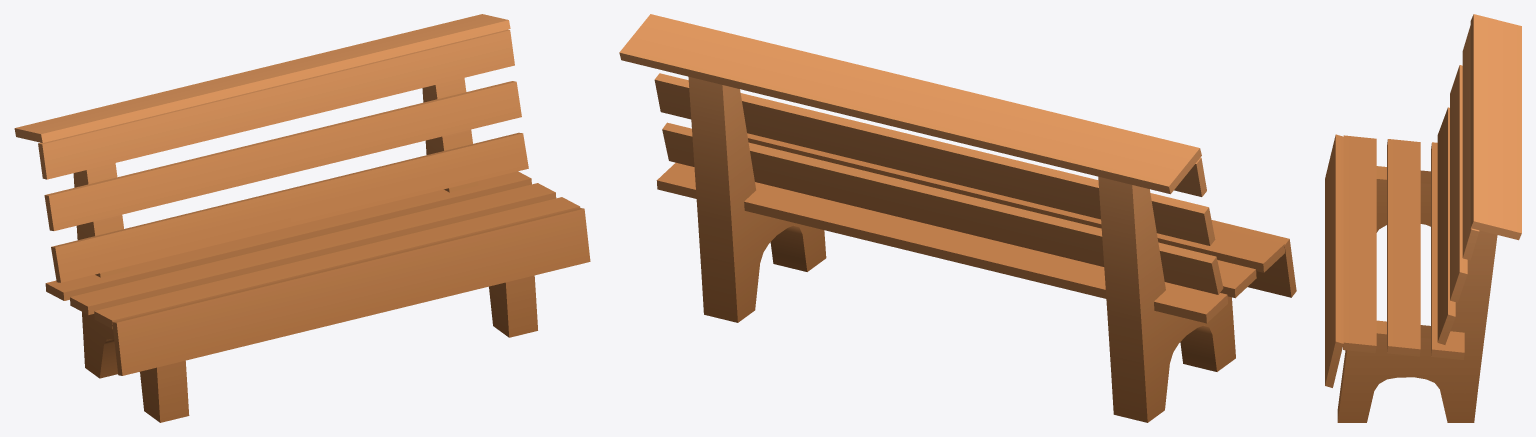
Rendered from bench_2.glb.
The picture shows the model from 3 angles, left to right: view 1: azimuth 30°, elevation 25°; view 2: azimuth 150°, elevation 25°; view 3: azimuth 270°, elevation 25°; orthographic projection. The views are drawn at different scales.
Parts seen in each view (by area): view 1: urban_bench_03; view 2: urban_bench_03; view 3: urban_bench_03.
Part boxes in pixels (x1,y1,x2,y2): urban_bench_03: [14, 14, 590, 422]; urban_bench_03: [619, 14, 1296, 422]; urban_bench_03: [1325, 14, 1521, 422].
Size of the model in its own units: 1.44 by 0.7195 by 0.5782.
1 material, 1 textured.
